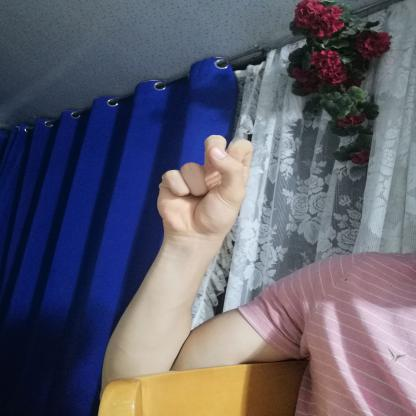QAAF: (147, 130, 262, 243)
